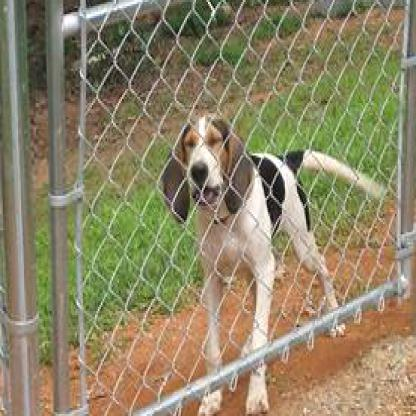dog: (160, 109, 386, 414)
